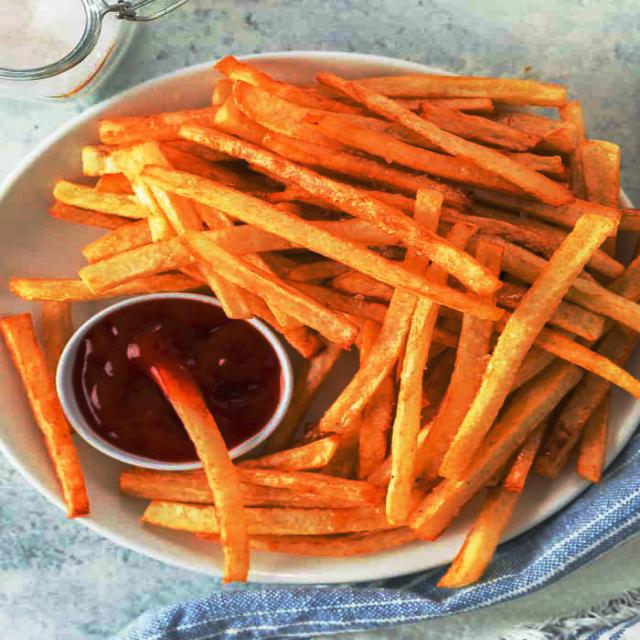french fries: (4, 58, 640, 586), (160, 383, 250, 582)
ketchup: (73, 301, 280, 460)
